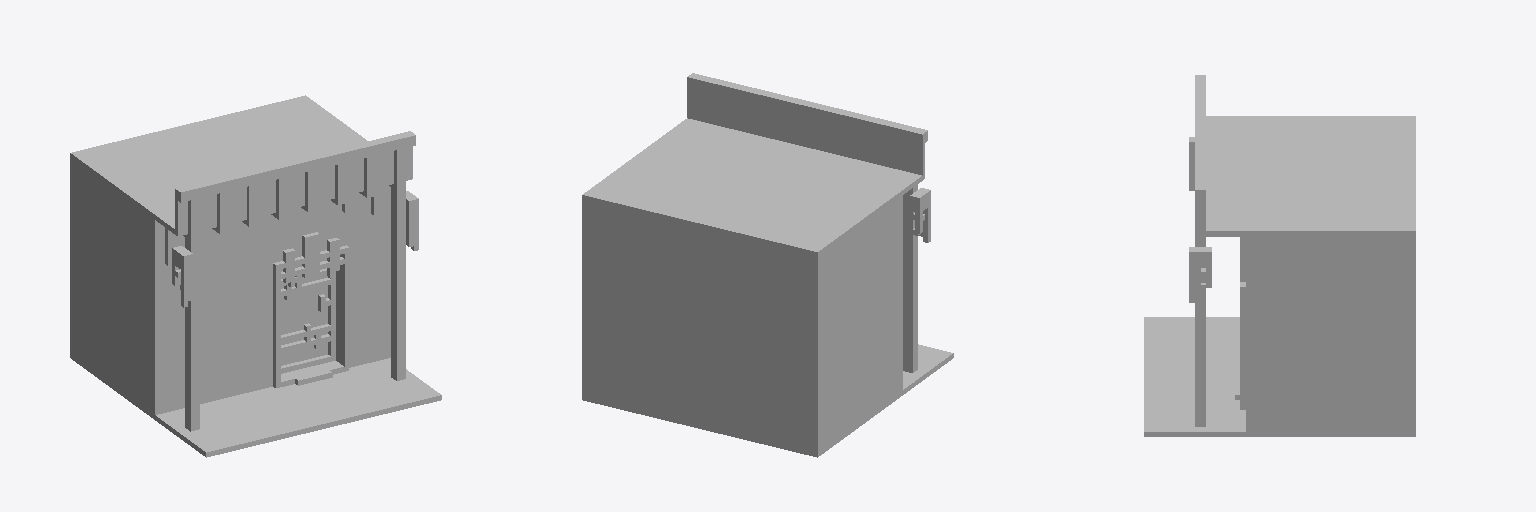
Rendered from villaRedLowerDoor-0.obj.
3 renders of one model, left to right at view 1: azimuth 30°, elevation 25°; view 2: azimuth 150°, elevation 25°; view 3: azimuth 270°, elevation 25°, orthographic.
Visible parts, largest first — view 1: object 1; view 2: object 1; view 3: object 1.
Part boxes in pixels (x1,y1,x2,y2): object 1: (70, 95, 441, 457); object 1: (582, 73, 953, 457); object 1: (1144, 75, 1415, 436).
Bounding box in the file's own units: 4.8 × 4.8 × 4.8.